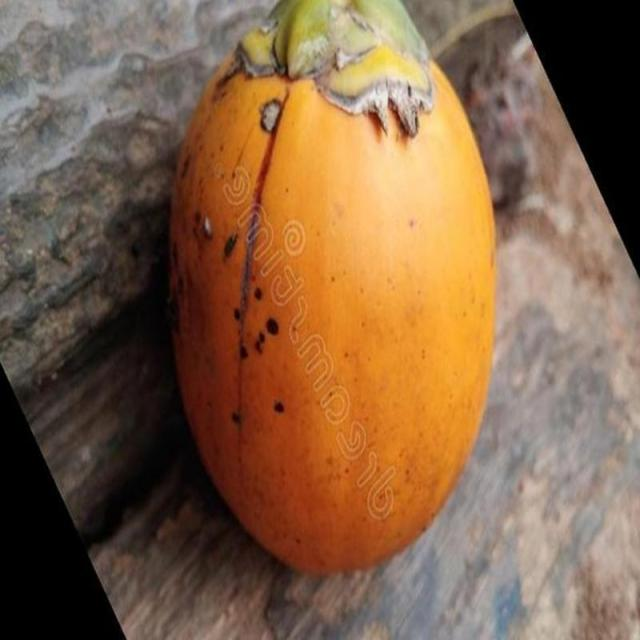good: (164, 0, 498, 579)
